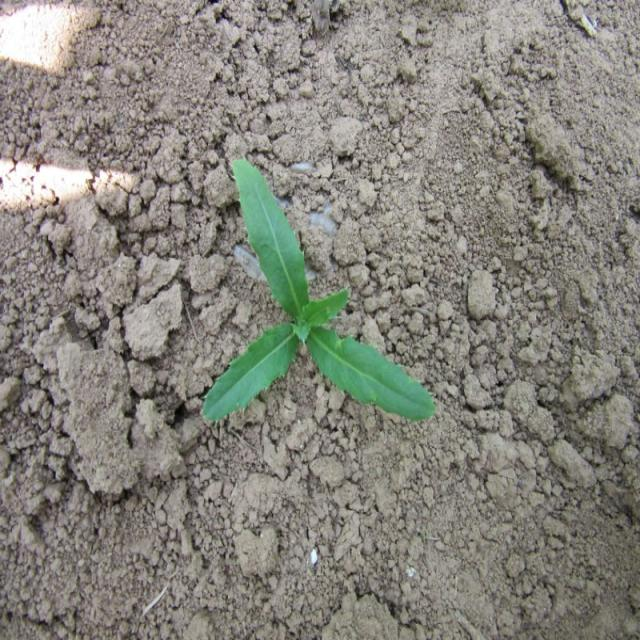field_thistle: (196, 164, 463, 448)
